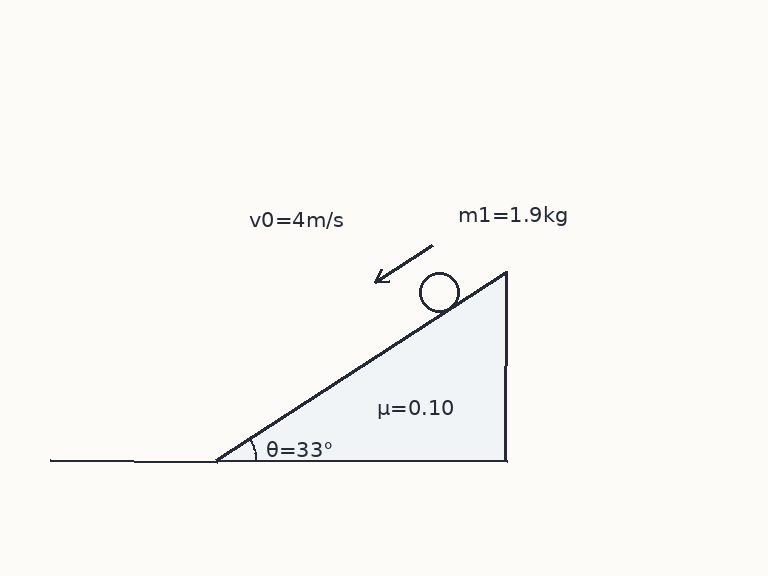ball: (417, 270, 461, 314)
ramp: (214, 270, 508, 462)
